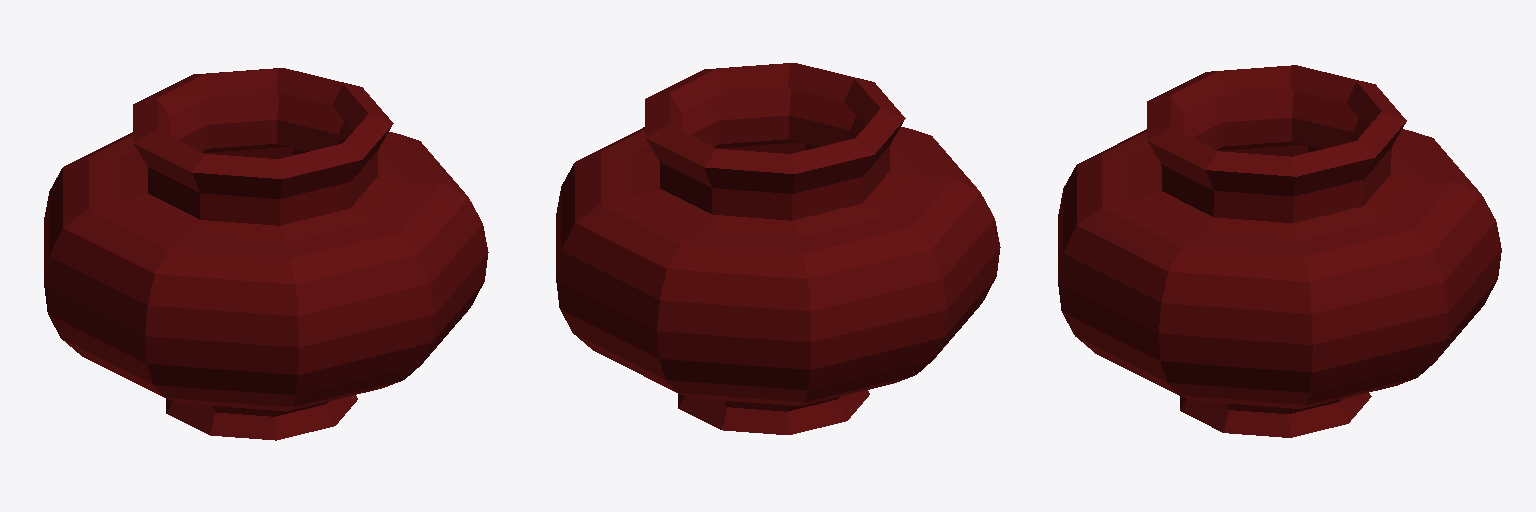
File: FishCastleAndBowl_1.obj
3 renders of one model, left to right at view 1: azimuth 30°, elevation 25°; view 2: azimuth 150°, elevation 25°; view 3: azimuth 270°, elevation 25°, orthographic.
Visible parts, largest first — view 1: Fishbowl; view 2: Fishbowl; view 3: Fishbowl.
Boxes of the visible parts, <box> form: Fishbowl: <box>44,68,488,440</box>; Fishbowl: <box>556,63,1000,434</box>; Fishbowl: <box>1058,65,1501,437</box>.
Size of the model in its own units: 23.68 by 16.76 by 23.29.